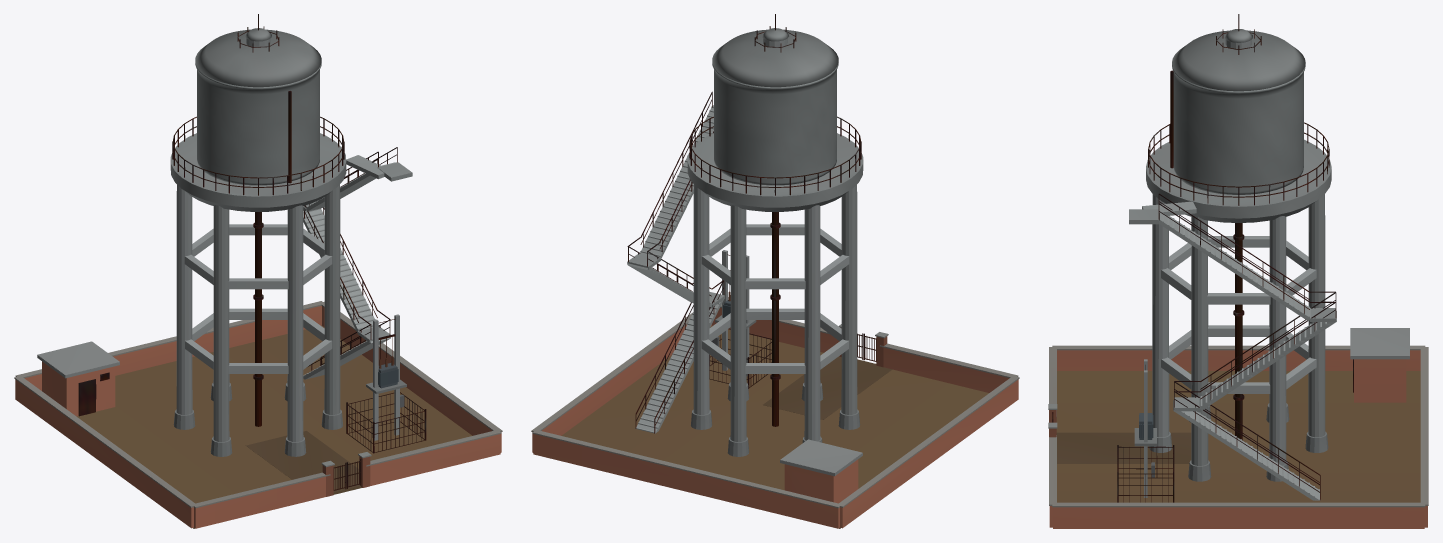
Rendered from paani_tanki_v2.glb.
The picture shows the model from 3 angles, left to right: view 1: azimuth 30°, elevation 25°; view 2: azimuth 150°, elevation 25°; view 3: azimuth 270°, elevation 25°; orthographic projection. The views are drawn at different scales.
Visible parts, largest first — view 1: hb_main, hb_brick, hb_metal; view 2: hb_main, hb_brick, hb_metal; view 3: hb_main, hb_brick, hb_metal.
Boxes of the visible parts, x1,y1,x2,y2 form: hb_main: (14,28,502,528); hb_brick: (15,306,501,528); hb_metal: (78,14,426,490); hb_main: (531,28,1019,528); hb_brick: (532,307,1018,528); hb_metal: (627,14,876,433); hb_main: (1048,29,1428,507); hb_brick: (1049,350,1427,528); hb_metal: (1052,14,1353,502).
Size of the model in its own units: 20.43 by 25.99 by 20.47.
